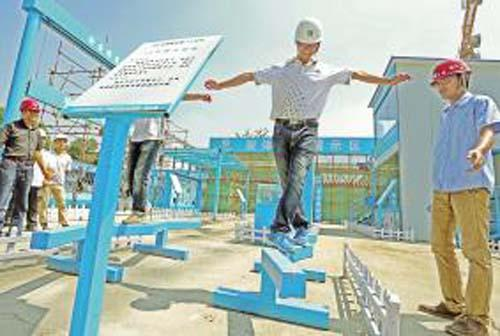helmet: (429, 61, 472, 85), (295, 17, 324, 45), (20, 99, 42, 113)
